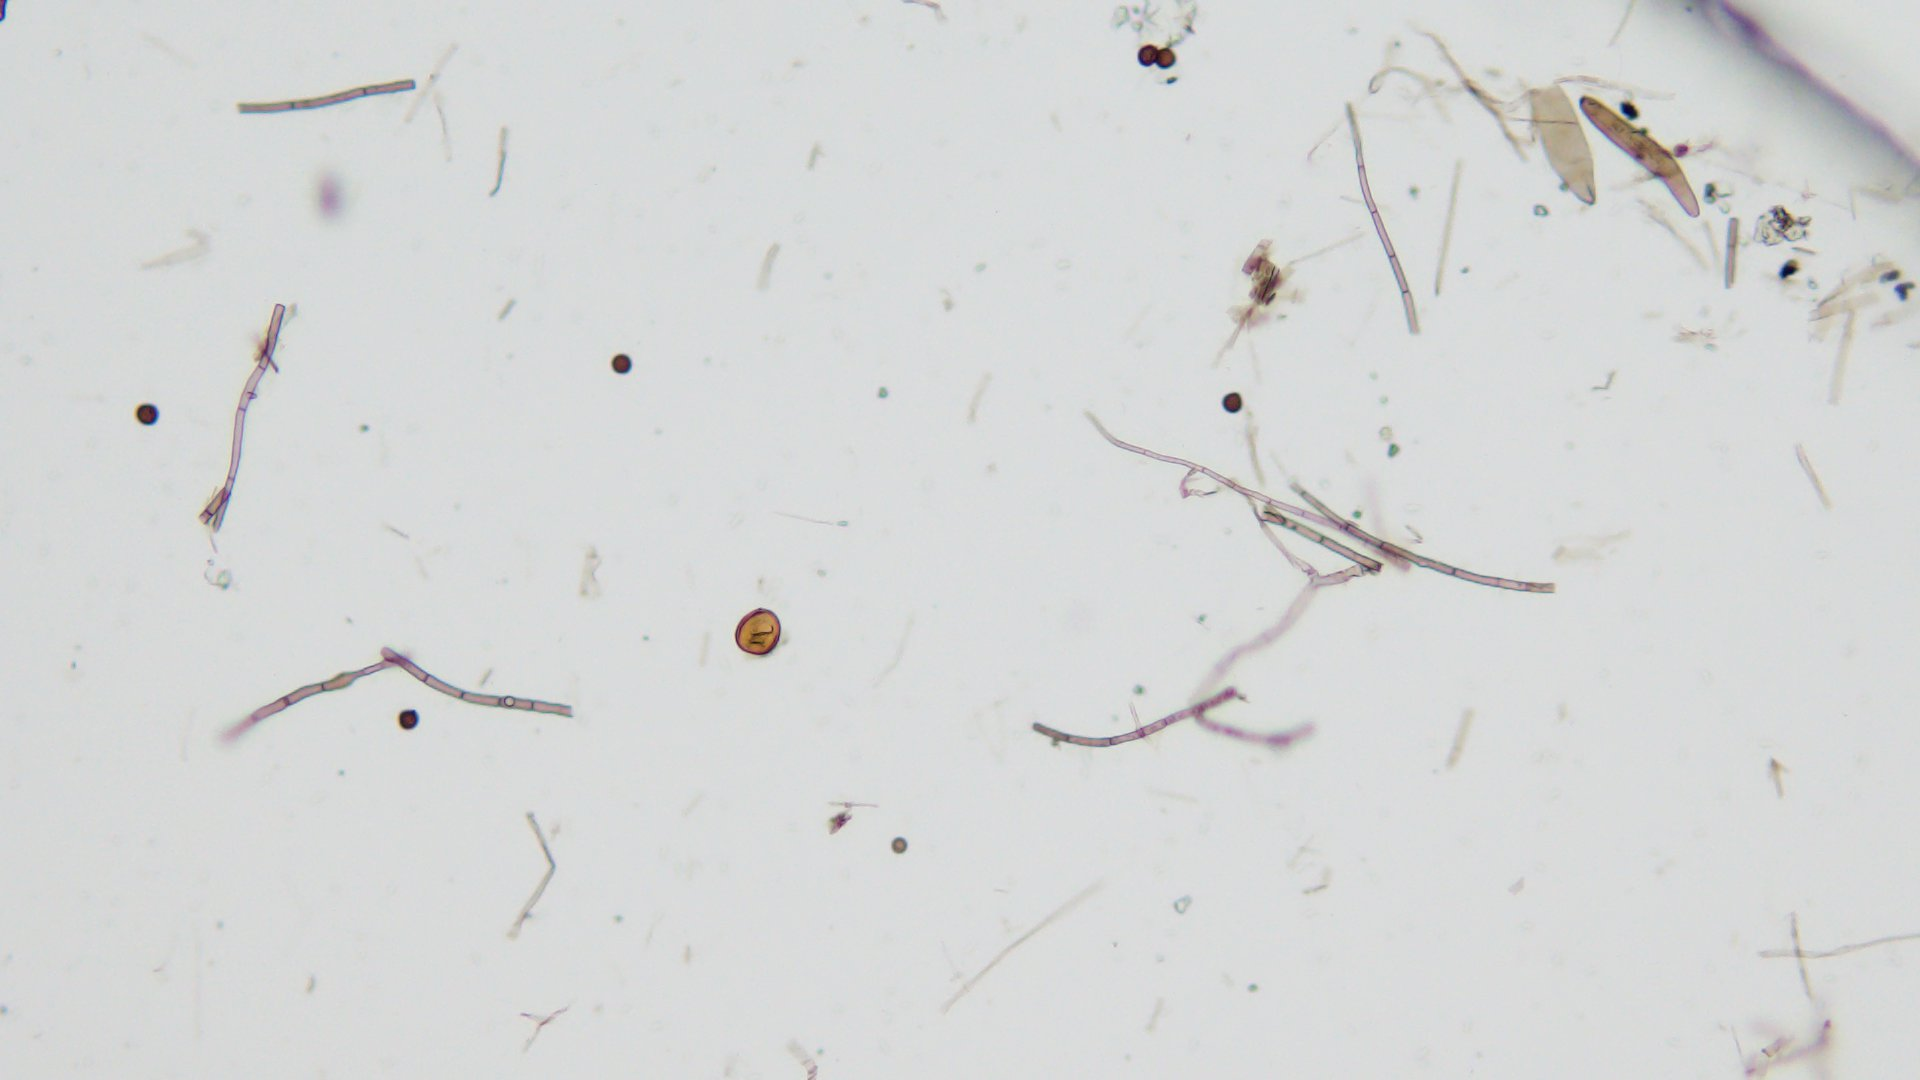dbb_spore: (1584, 102, 1698, 214)
shs_spore: (135, 404, 160, 429), (1222, 390, 1244, 414), (612, 353, 636, 373), (1154, 50, 1175, 69), (400, 709, 417, 731), (1138, 46, 1155, 66)
xb_spore: (735, 607, 783, 659)
